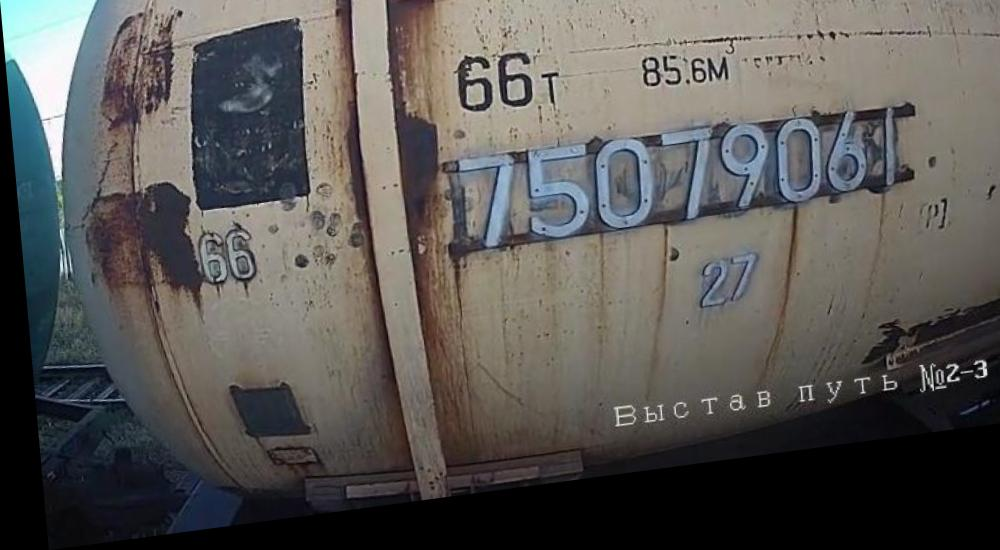Wagon-number: (448, 116, 905, 268)
